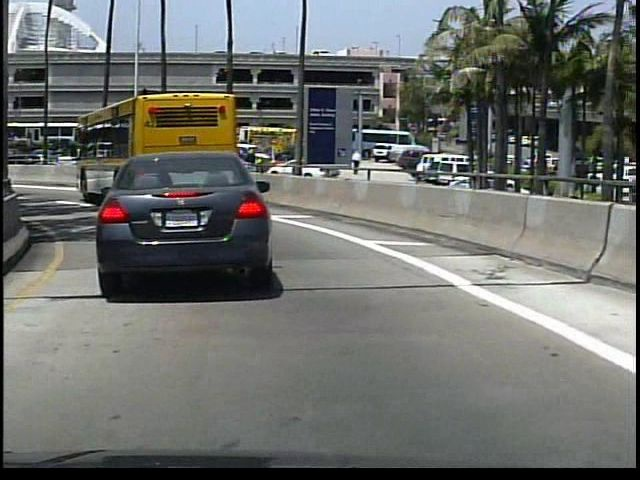person: (347, 147, 362, 178), (243, 147, 256, 179)
